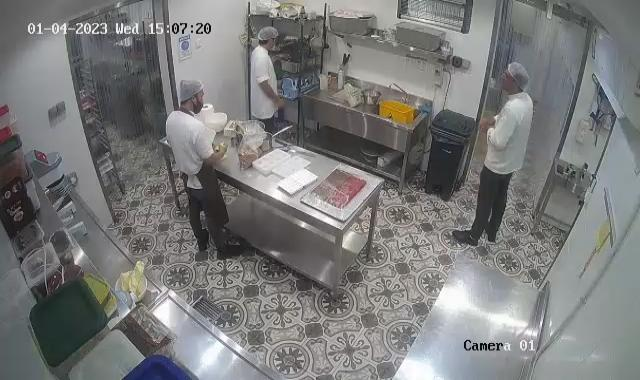hairnet: (502, 62, 527, 90), (177, 80, 205, 105), (257, 26, 279, 44)
